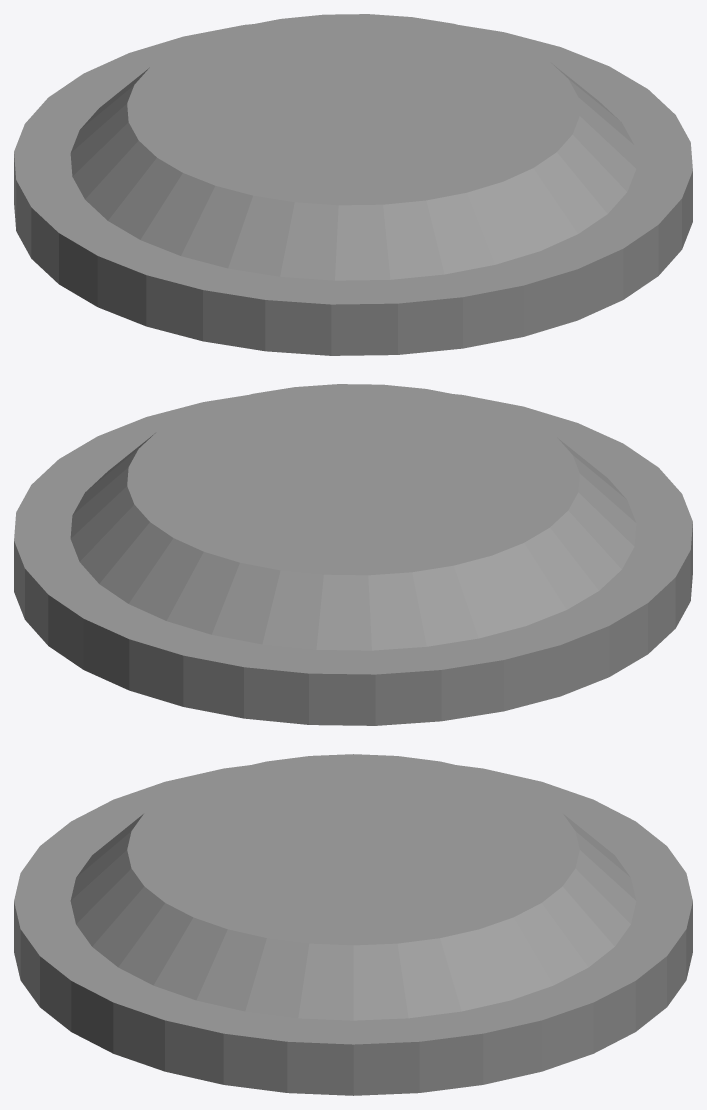
File: level_button.glb
3 renders of one model, top to bottom at view 1: azimuth 30°, elevation 25°; view 2: azimuth 150°, elevation 25°; view 3: azimuth 270°, elevation 25°, orthographic.
Visible parts, largest first — view 1: Base, Platform, Corner; view 2: Base, Platform, Corner; view 3: Base, Platform, Corner.
Boxes of the visible parts, bbox=[...] form: Base: bbox=[14, 24, 692, 355]; Platform: bbox=[127, 14, 579, 205]; Corner: bbox=[70, 63, 636, 280]; Base: bbox=[14, 394, 692, 725]; Platform: bbox=[127, 384, 579, 575]; Corner: bbox=[70, 433, 636, 650]; Base: bbox=[14, 765, 692, 1095]; Platform: bbox=[127, 754, 579, 945]; Corner: bbox=[70, 814, 636, 1020].
Bounding box in the file's own units: 2.4 × 0.4 × 2.4.
Materials: 1 (1 with a texture image).
